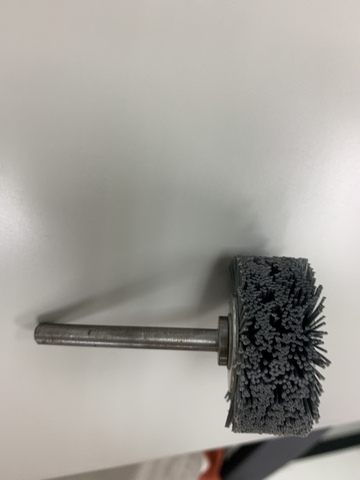Wheel Brush: (25, 252, 315, 438), (62, 246, 328, 436)
